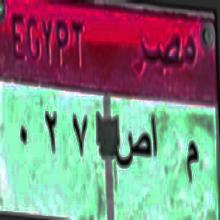0: (14, 116, 34, 160)
2: (41, 110, 62, 160)
7: (72, 111, 90, 164)
alif: (151, 115, 161, 157)
meem: (179, 138, 201, 198)
saad: (116, 129, 152, 176)
